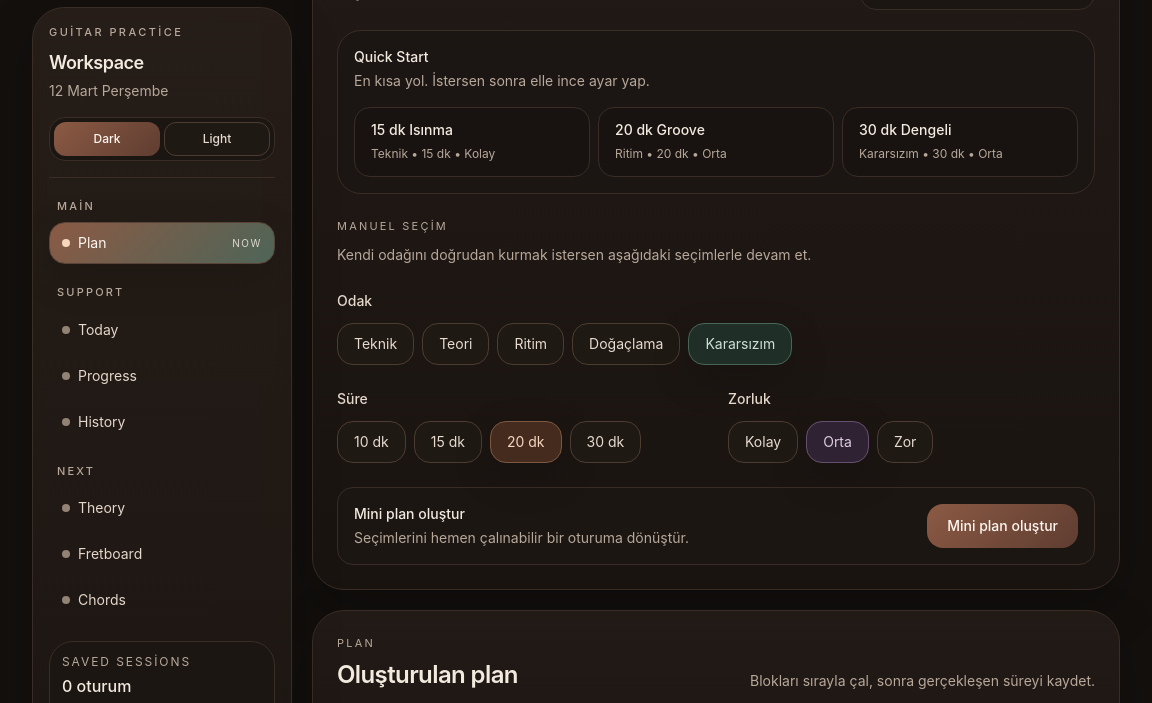
Scenario: generates a practice plan from the current selections
The width and height of the screenshot is (1152, 703).
(page scrolled)
Click the button "Teori".
click(456, 344)  # box x1=422 y1=322 x2=489 y2=364
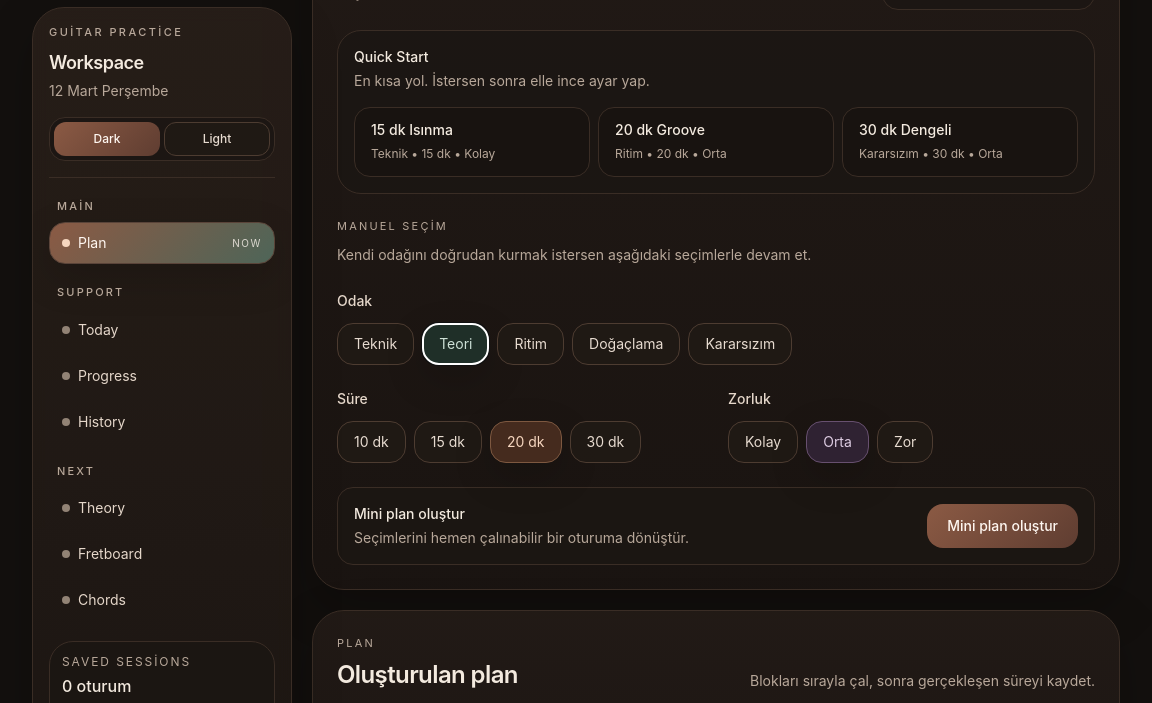
Click the button "10 dk".
click(371, 442)  # box x1=337 y1=420 x2=406 y2=462
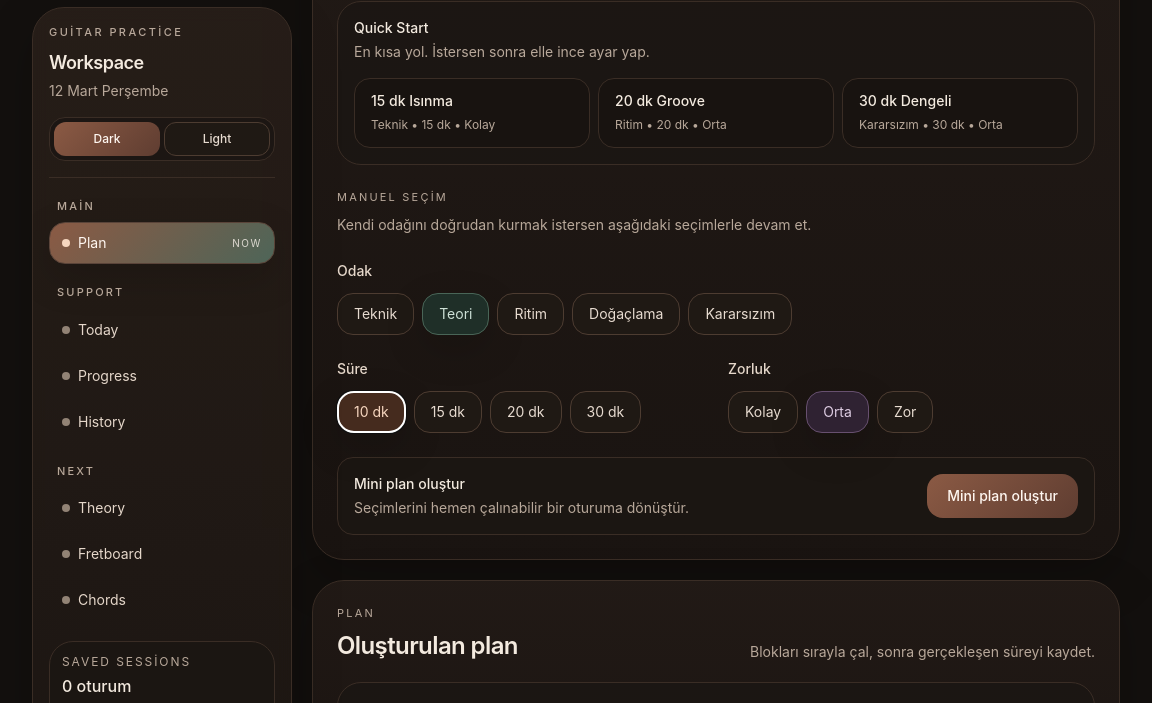
Click the button "Kolay".
click(763, 412)  # box x1=728 y1=391 x2=798 y2=433
(page scrolled)
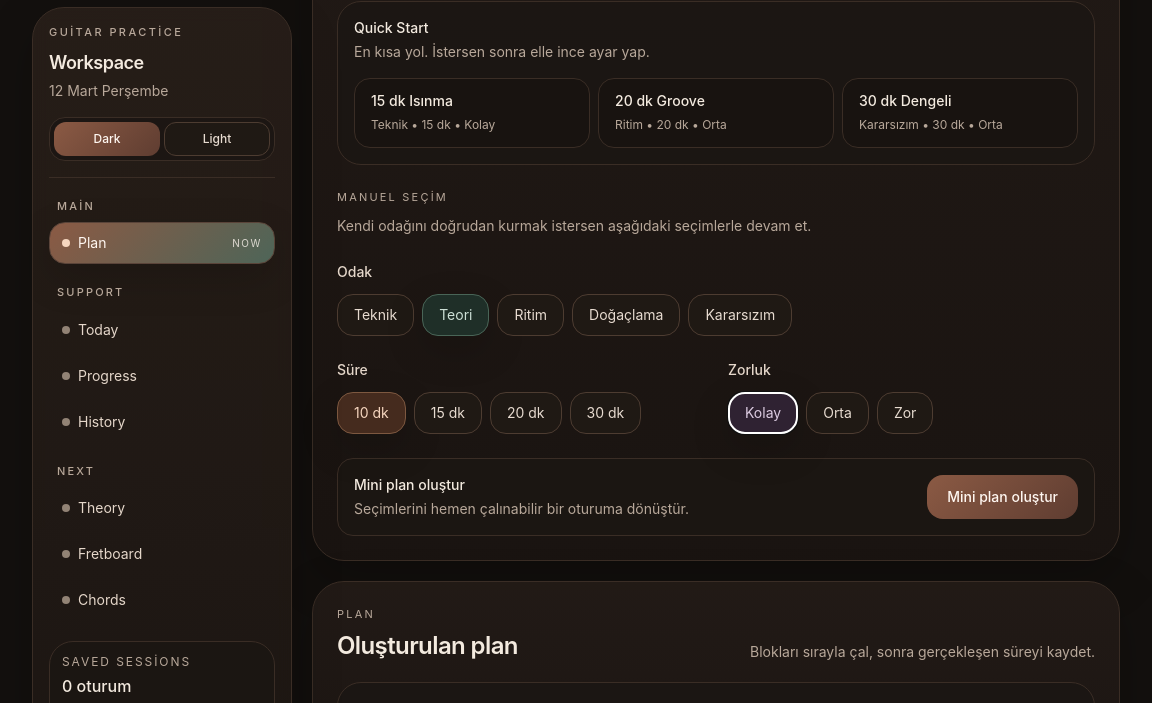
Click the button "Mini plan oluştur".
click(1003, 496)  # box x1=927 y1=474 x2=1078 y2=518
(page scrolled)
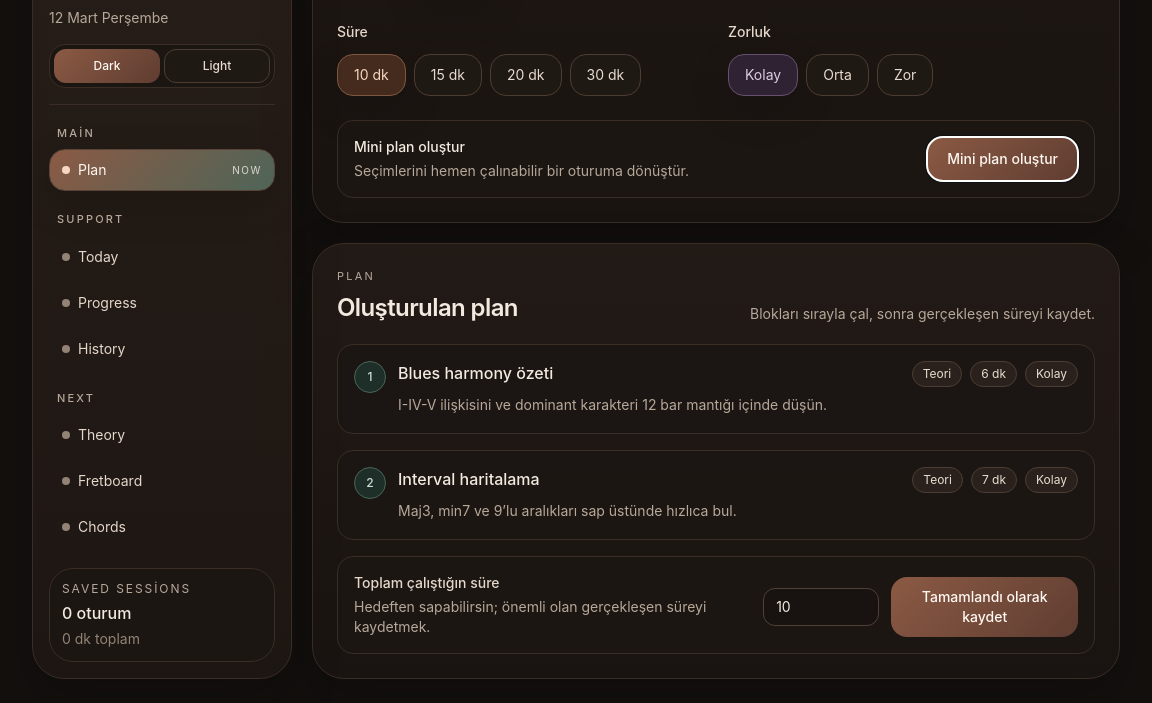
Expected: the element "Oluşturulan plan" is shown, x1=312 y1=242 x2=1120 y2=679
Result: the text "Toplam çalıştığın süre" is shown at x1=354 y1=574 x2=500 y2=591
